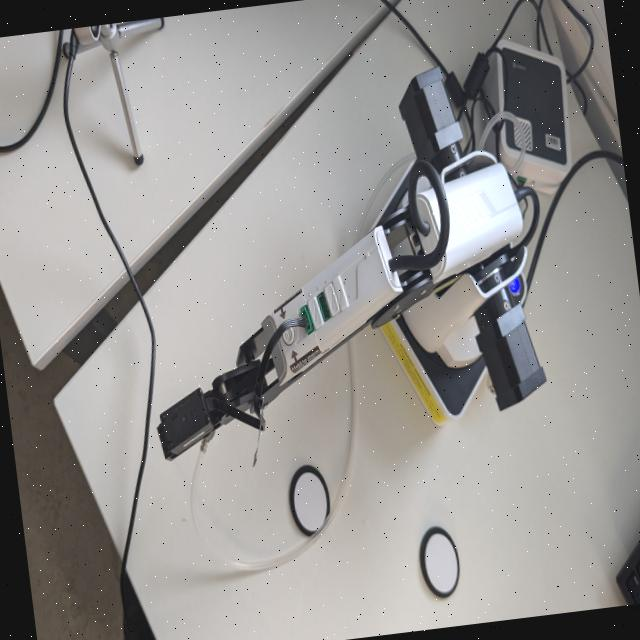Robot-end-effector-HF8z: (149, 381, 227, 490)
